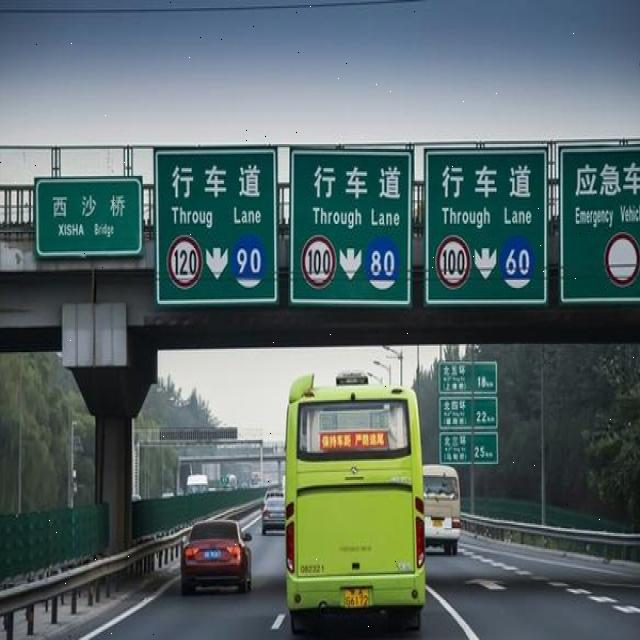speed limit 100: (299, 234, 338, 290), (436, 234, 472, 290)
speed limit 120: (166, 236, 203, 289)
speed limit 60: (501, 236, 534, 290)
speed limit 80: (365, 237, 401, 291)
speed limit 90: (231, 232, 267, 289)
